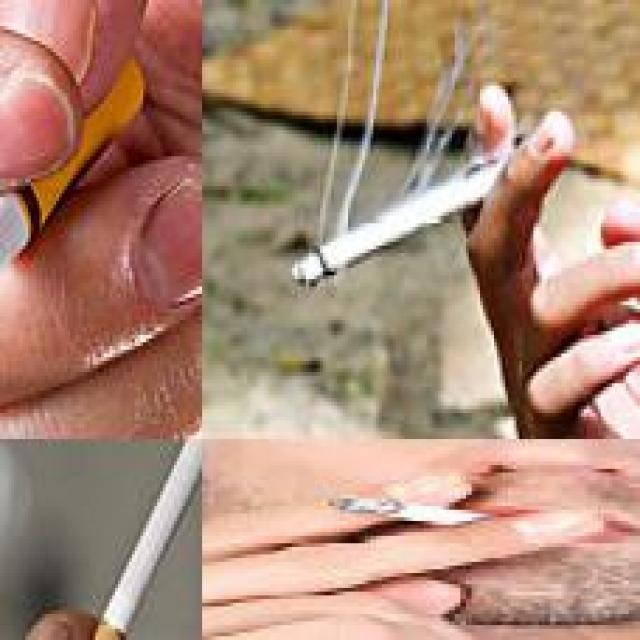cigarette: (284, 158, 494, 288), (86, 439, 200, 636), (326, 496, 502, 526)
